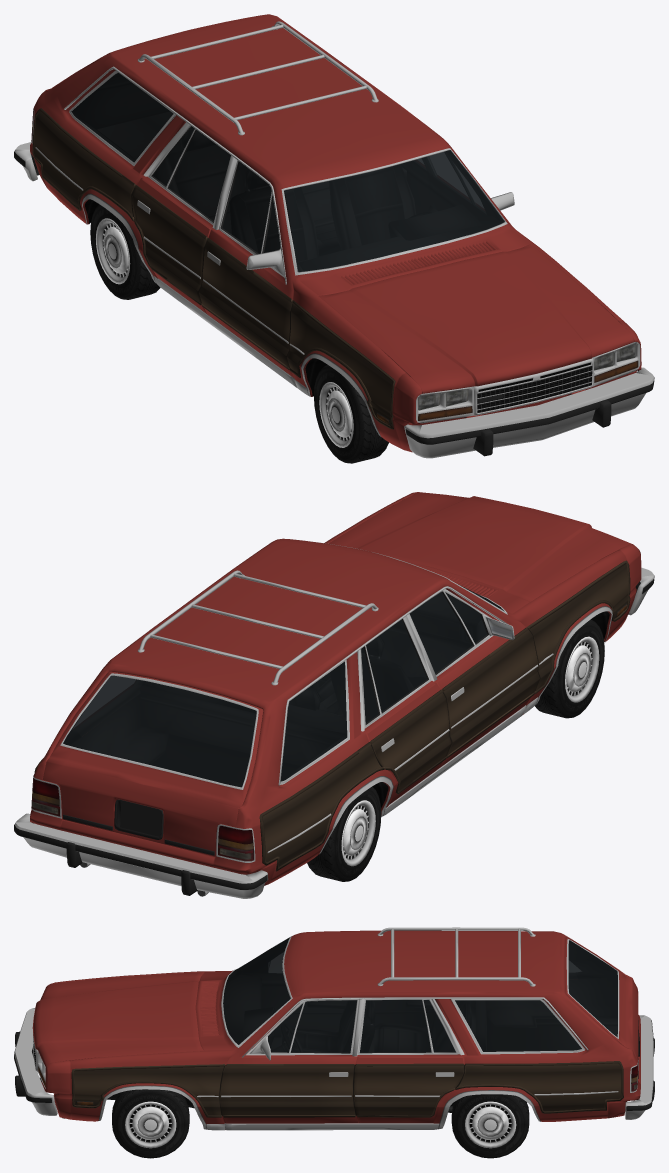
The model's file is veicolo_epoca_station_wagon.glb.
3 views of the same model, one above another, from view 1: azimuth 30°, elevation 25°; view 2: azimuth 150°, elevation 25°; view 3: azimuth 270°, elevation 25° (orthographic). The views are drawn at different scales.
Parts seen in each view (by area): view 1: sb_modello; view 2: sb_modello; view 3: sb_modello.
Boxes of the visible parts, x1,y1,x2,y2 form: sb_modello: (14, 14, 654, 463); sb_modello: (14, 492, 654, 898); sb_modello: (14, 927, 654, 1158).
Bounding box in the file's own units: 1.83 × 1.4 × 5.
Materials: 6 (5 with a texture image).
